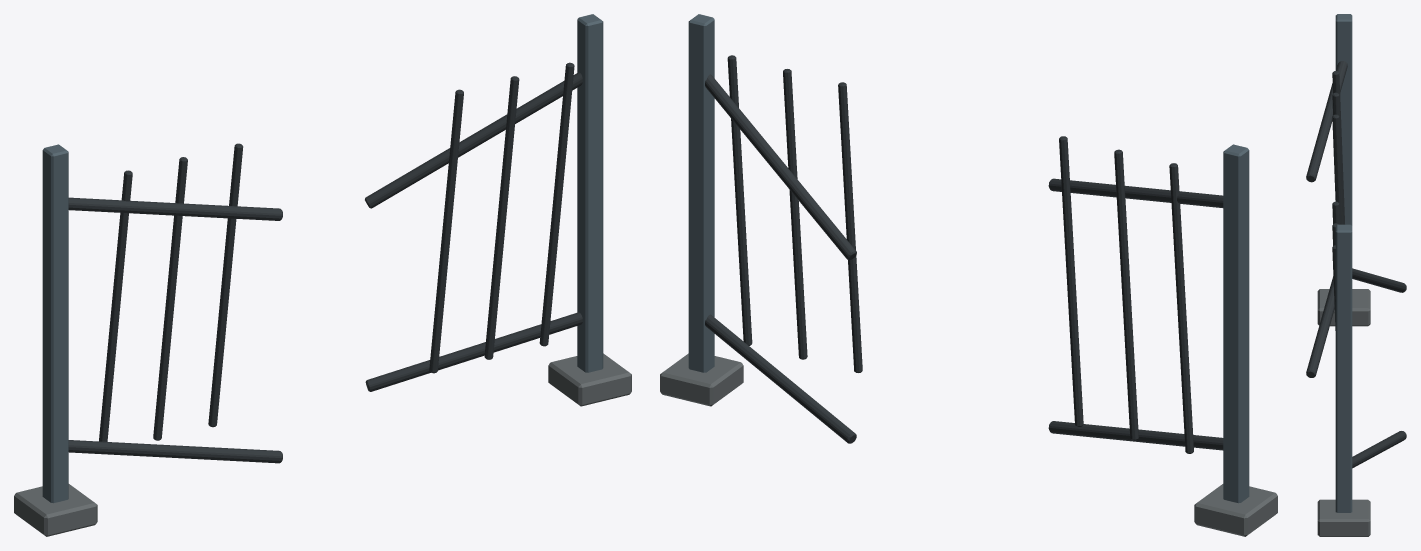
File: BH_Fence_Broken.glb
3 renders of one model, left to right at view 1: azimuth 30°, elevation 25°; view 2: azimuth 150°, elevation 25°; view 3: azimuth 270°, elevation 25°, orthographic. The views are drawn at different scales.
Visible parts, largest first — view 1: BH_Fence_Broken_RenderMesh; view 2: BH_Fence_Broken_RenderMesh; view 3: BH_Fence_Broken_RenderMesh.
Boxes of the visible parts, bbox=[...] form: BH_Fence_Broken_RenderMesh: bbox=[14, 14, 631, 536]; BH_Fence_Broken_RenderMesh: bbox=[660, 14, 1277, 536]; BH_Fence_Broken_RenderMesh: bbox=[1306, 14, 1406, 536].
Size of what is drawn, in the model's own units: 3.3 by 1.99 by 0.6057.
